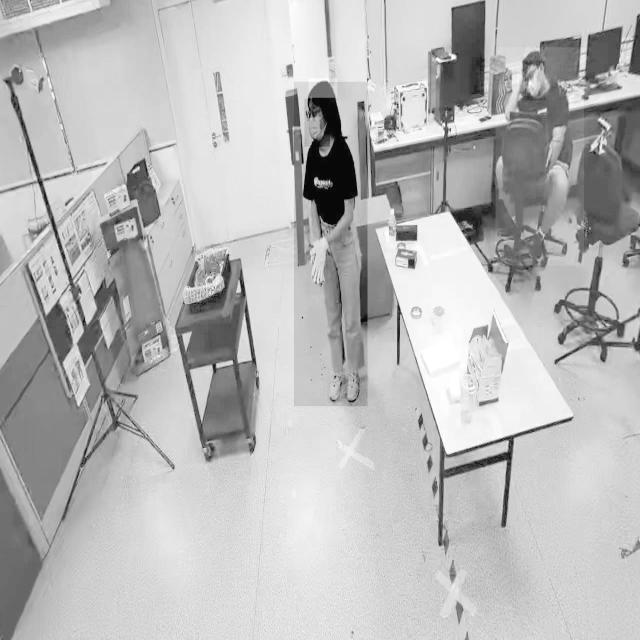face_mask: (304, 98, 330, 146), (522, 62, 546, 102)
hand_glove: (306, 231, 328, 296)
hand_noglove: (517, 71, 525, 93)
head_nohelmet: (308, 78, 338, 99), (523, 49, 545, 61)
person: (294, 82, 368, 407), (495, 47, 584, 267)
shoes: (326, 362, 346, 404), (345, 361, 363, 405)
